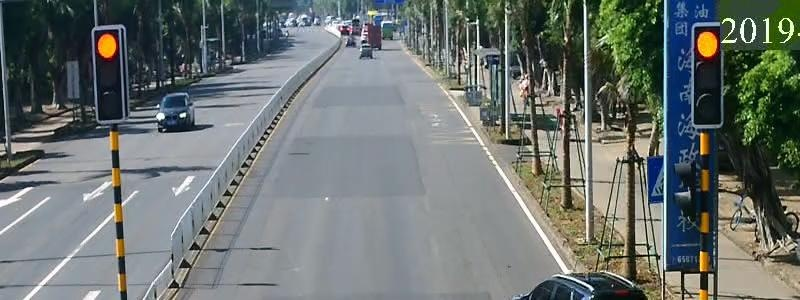red: (694, 28, 720, 67), (88, 32, 120, 61)
